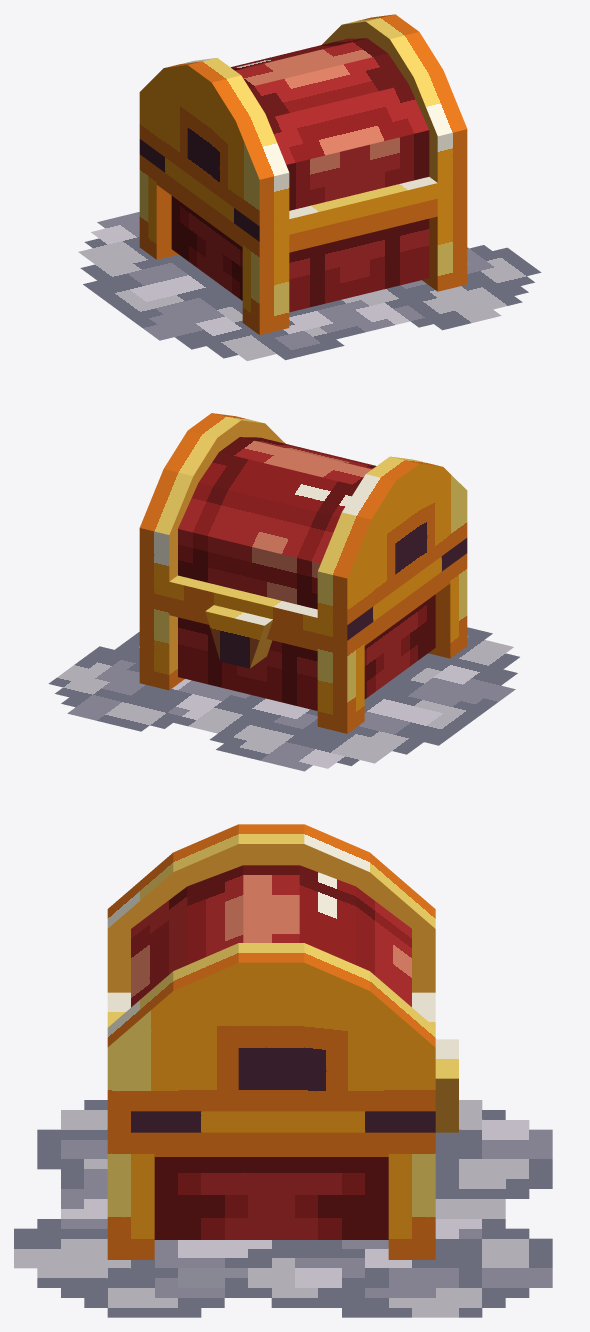
Rendered from chest.gltf.
3 views of the same model, one above another, from view 1: azimuth 30°, elevation 25°; view 2: azimuth 150°, elevation 25°; view 3: azimuth 270°, elevation 25° (orthographic). The views are drawn at different scales.
Visible parts, largest first — view 1: top, down, plane; view 2: top, plane, down; view 3: top, plane, down.
Part boxes in pixels (box(x1,y1,x2,y2)): top: box(139, 14, 467, 241); down: box(139, 154, 467, 334); plane: box(78, 212, 541, 360); top: box(139, 413, 467, 668); plane: box(48, 627, 519, 771); down: box(139, 553, 467, 733); top: box(107, 824, 458, 1132); plane: box(14, 1100, 552, 1317); down: box(107, 1132, 435, 1259).
Bounding box in the file's own units: 0.75 × 0.45 × 0.75.
2 materials, 2 textured.
